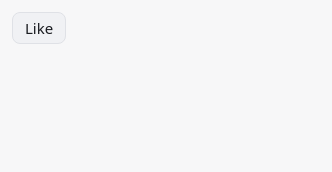
Test: useOptimistic › flips immediately and stays flipped once the save succeeds
Click the button at (39, 28), box [12,12,66,44]
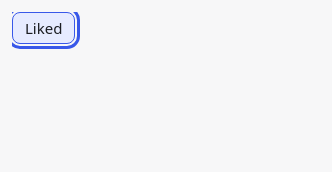
expect the button is pressed: met, box [12,12,75,44]
